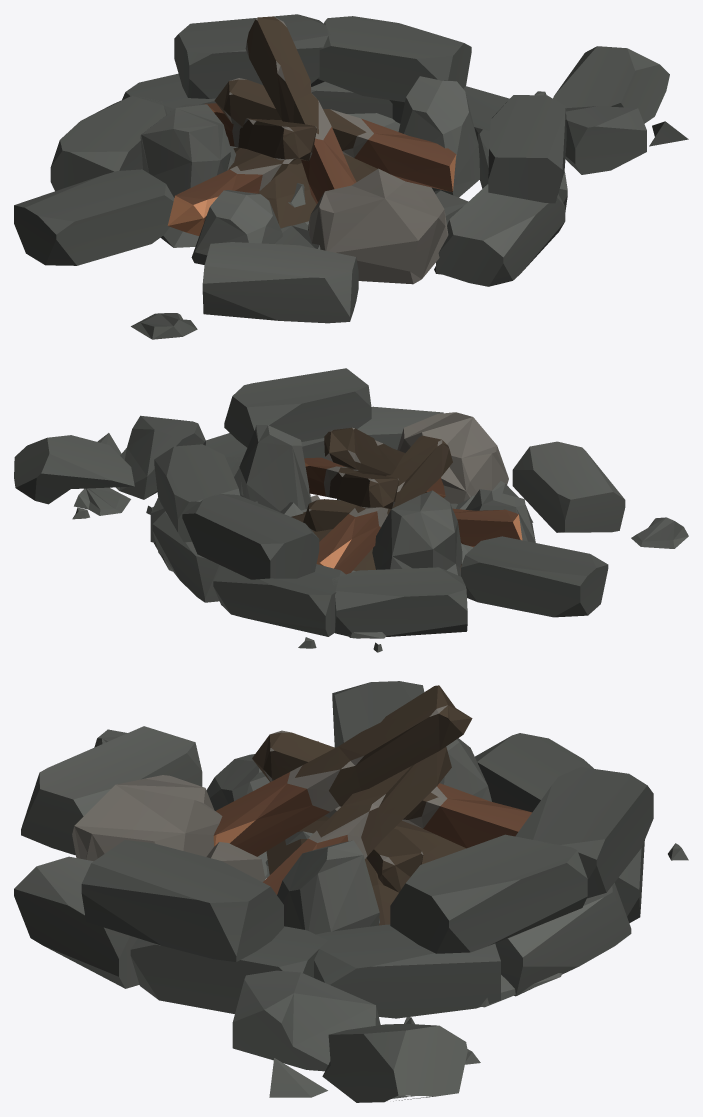
File: BigFire.fbx
3 renders of one model, top to bottom at view 1: azimuth 30°, elevation 25°; view 2: azimuth 150°, elevation 25°; view 3: azimuth 270°, elevation 25°, orthographic. The views are drawn at different scales.
Parts seen in each view (by area): view 1: BigFire; view 2: BigFire; view 3: BigFire.
Part boxes in pixels (bbox=[...]): BigFire: bbox=[14, 14, 688, 339]; BigFire: bbox=[14, 368, 688, 652]; BigFire: bbox=[14, 681, 688, 1102].
Size of the model in its own units: 253 by 63.31 by 186.
